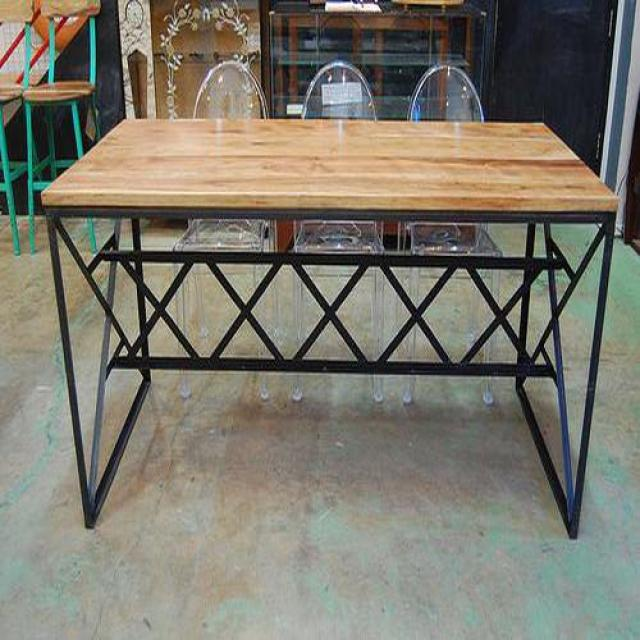table: (40, 119, 620, 541)
